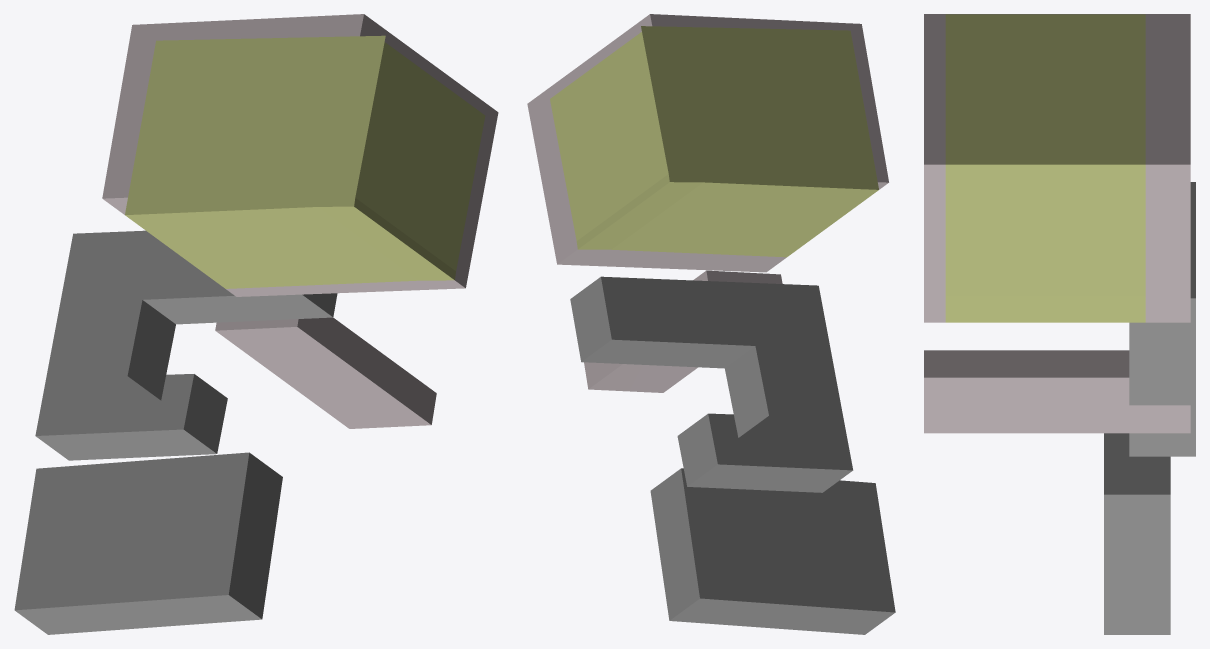
3 renders of one model, left to right at view 1: azimuth 30°, elevation 25°; view 2: azimuth 150°, elevation 25°; view 3: azimuth 270°, elevation 25°, orthographic. The views are drawn at different scales.
Parts seen in each view (by area): view 1: 0_1_2_0_3_3_2_1_0_0; view 2: 0_1_2_0_3_3_2_1_0_0; view 3: 0_1_2_0_3_3_2_1_0_0.
Part boxes in pixels (<box>): 0_1_2_0_3_3_2_1_0_0: <box>14,14,498,634</box>; 0_1_2_0_3_3_2_1_0_0: <box>527,14,895,634</box>; 0_1_2_0_3_3_2_1_0_0: <box>924,14,1195,634</box>.
Bounding box in the file's own units: 18.54 × 28.78 × 12.24.
